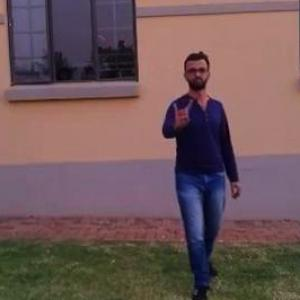takeoff-hand: (166, 92, 198, 130)
